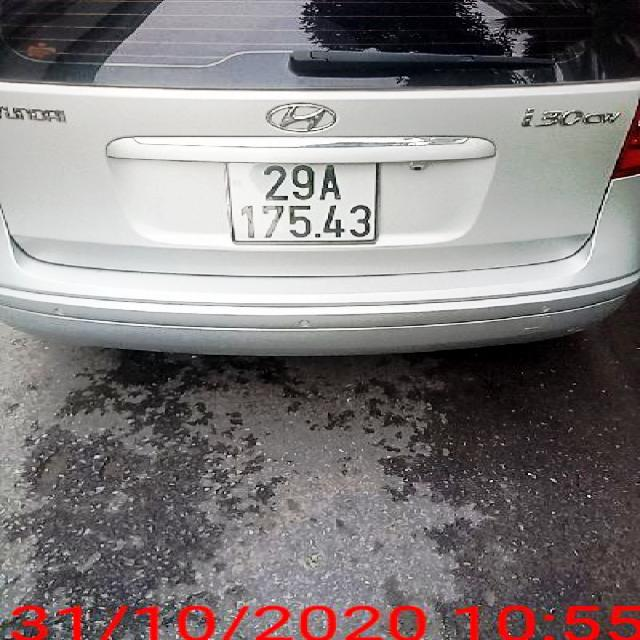license_plate: (228, 163, 381, 244)
